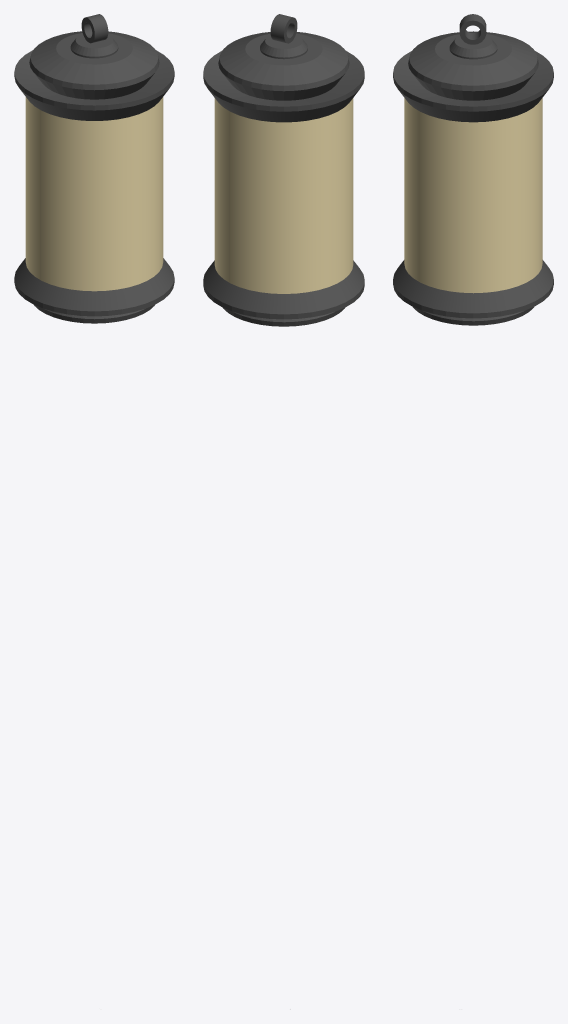
The model's file is HangingLantern.fbx.
3 views of the same model, side by side, from view 1: azimuth 30°, elevation 25°; view 2: azimuth 150°, elevation 25°; view 3: azimuth 270°, elevation 25° (orthographic).
Visible parts, largest first — view 1: HANGING LANTERN, Cylinder002.004, Cylinder003.003, GRANDINE; view 2: HANGING LANTERN, Cylinder002.004, Cylinder003.003, GRANDINE; view 3: HANGING LANTERN, Cylinder002.004, Cylinder003.003, GRANDINE.
Boxes of the visible parts, x1,y1,x2,y2 form: HANGING LANTERN: (25, 97, 163, 291); Cylinder002.004: (14, 31, 174, 120); Cylinder003.003: (14, 258, 174, 323); GRANDINE: (81, 14, 108, 43); HANGING LANTERN: (214, 98, 353, 293); Cylinder002.004: (203, 32, 364, 122); Cylinder003.003: (203, 260, 364, 326); GRANDINE: (270, 14, 297, 43); HANGING LANTERN: (404, 98, 542, 293); Cylinder002.004: (393, 31, 553, 122); Cylinder003.003: (393, 260, 553, 325); GRANDINE: (459, 14, 486, 44).
Bounding box in the file's own units: 68.52 × 467 × 68.52.
